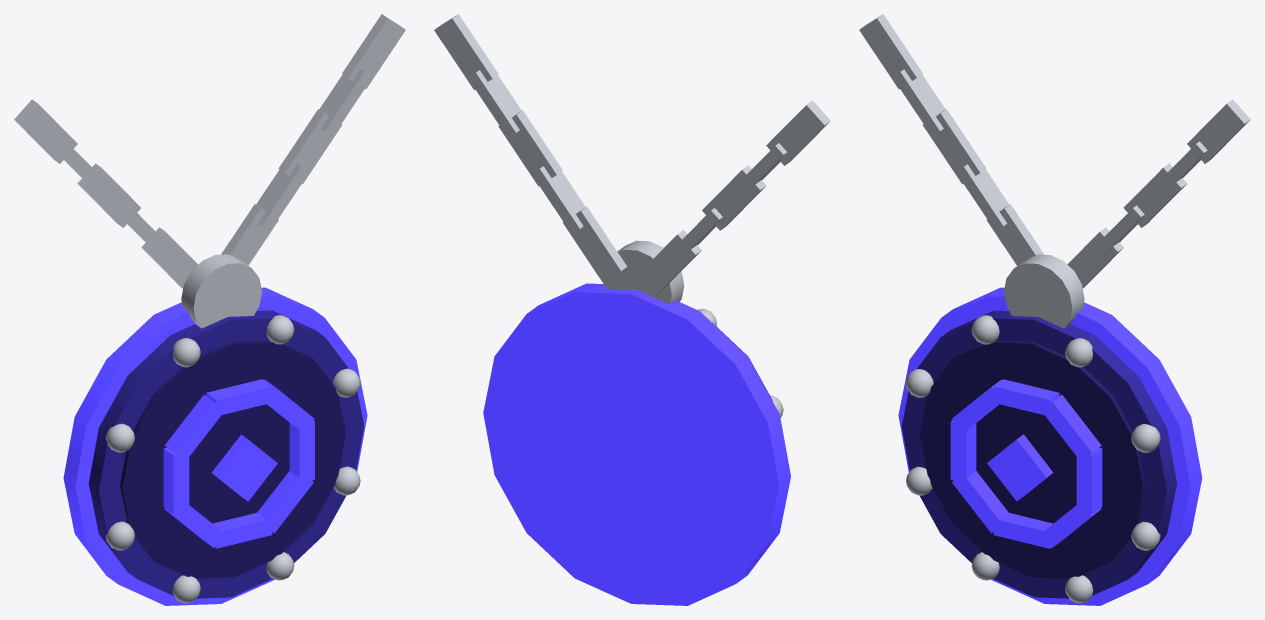
3 views of the same model, side by side, from view 1: azimuth 30°, elevation 25°; view 2: azimuth 150°, elevation 25°; view 3: azimuth 330°, elevation 25° (orthographic).
Visible parts, largest first — view 1: rank-warper-e; view 2: rank-warper-e; view 3: rank-warper-e.
Boxes of the visible parts, <box> form: rank-warper-e: <box>14,14,405,605</box>; rank-warper-e: <box>434,14,830,605</box>; rank-warper-e: <box>859,14,1250,605</box>.
Bounding box in the file's own units: 0.2333 × 0.3103 × 0.0472.
